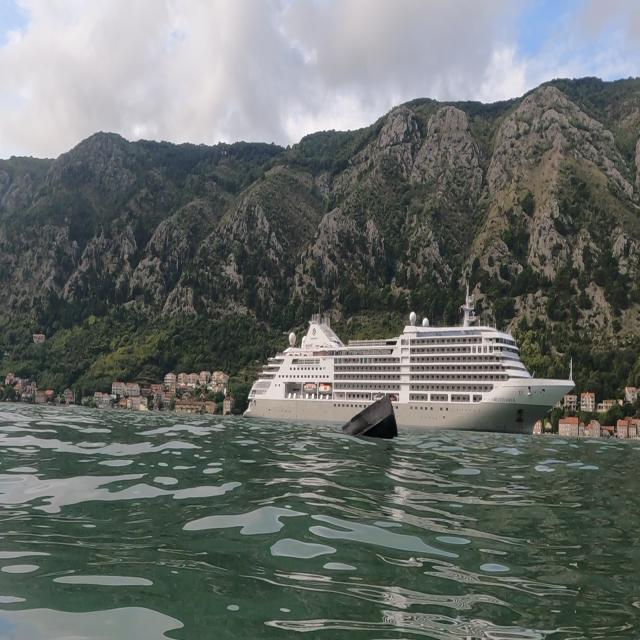boat: (242, 276, 576, 438)
buoy: (334, 388, 410, 452)
